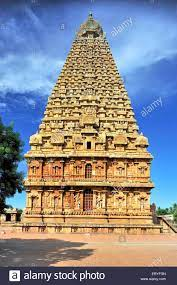Temple: (17, 3, 164, 236)
